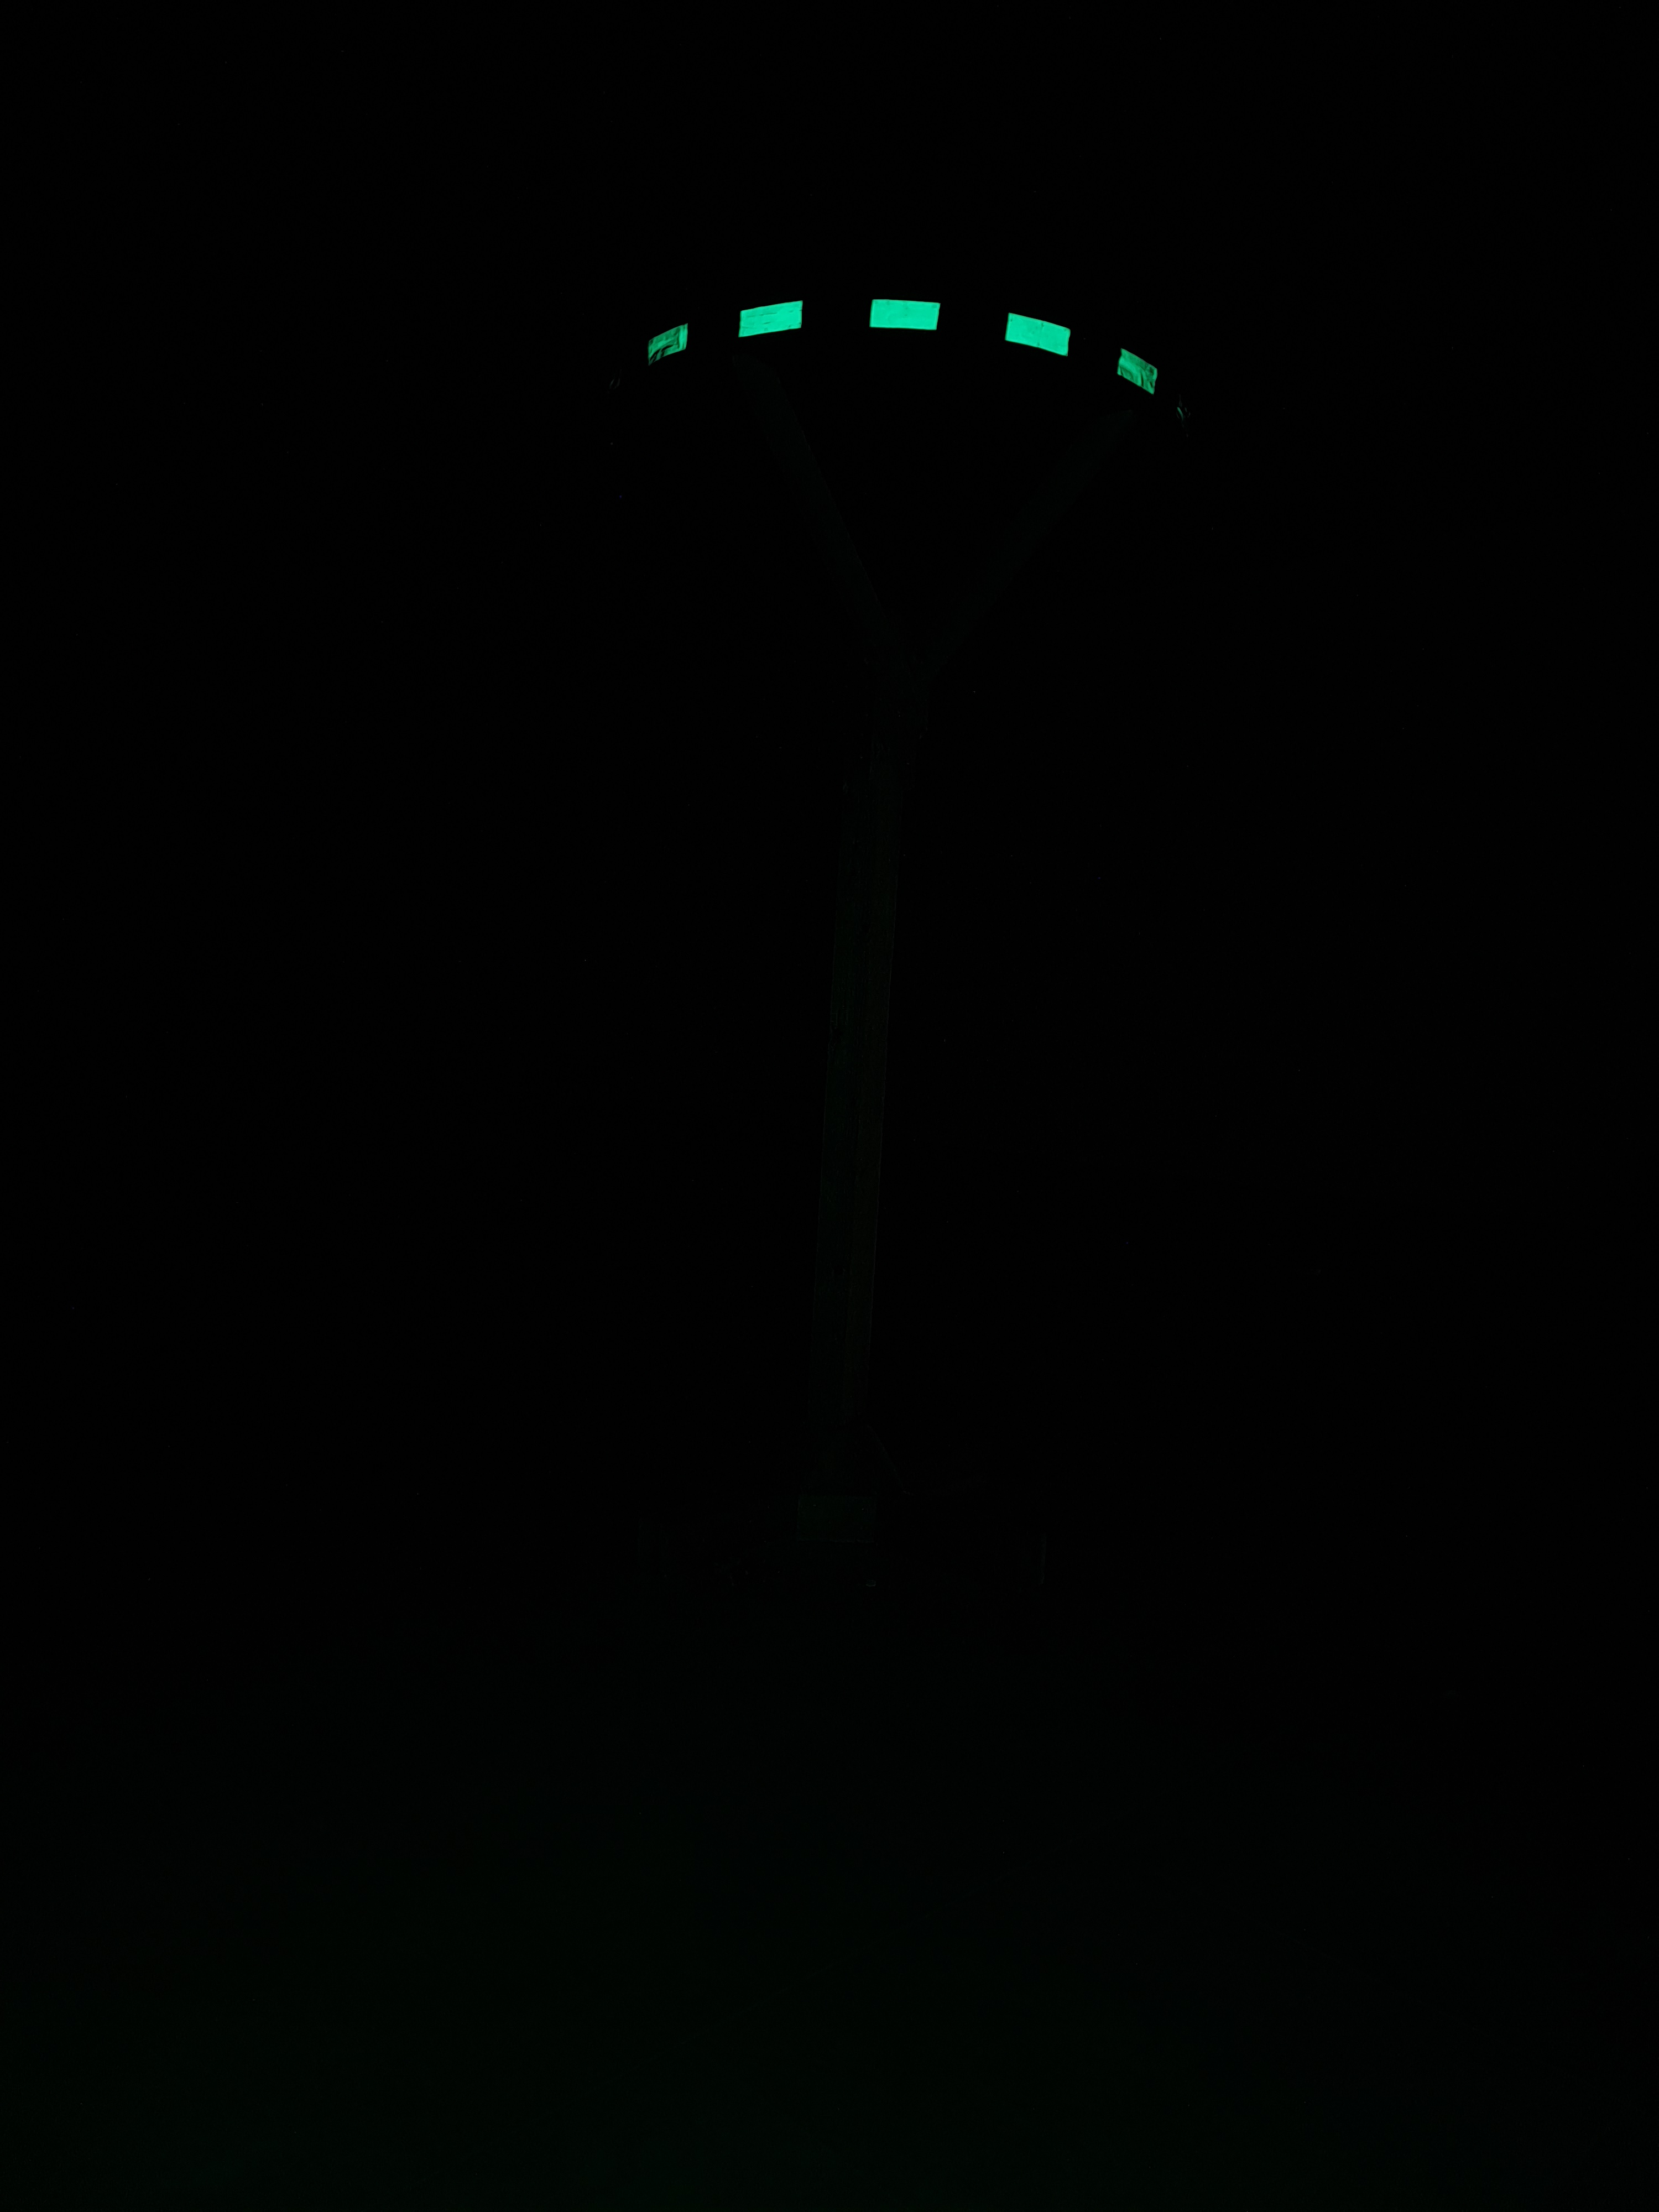hoop: (643, 294, 1154, 401)
